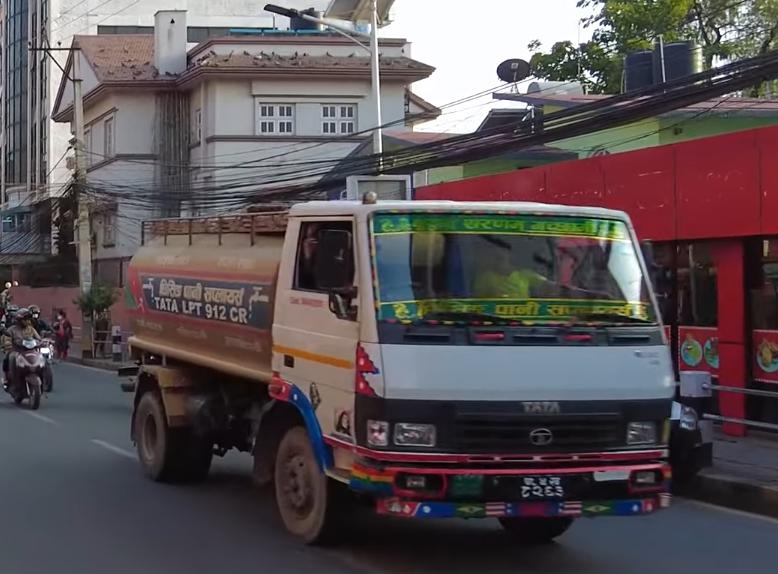mini_truck: (116, 189, 681, 551)
scooter: (4, 296, 55, 409)
